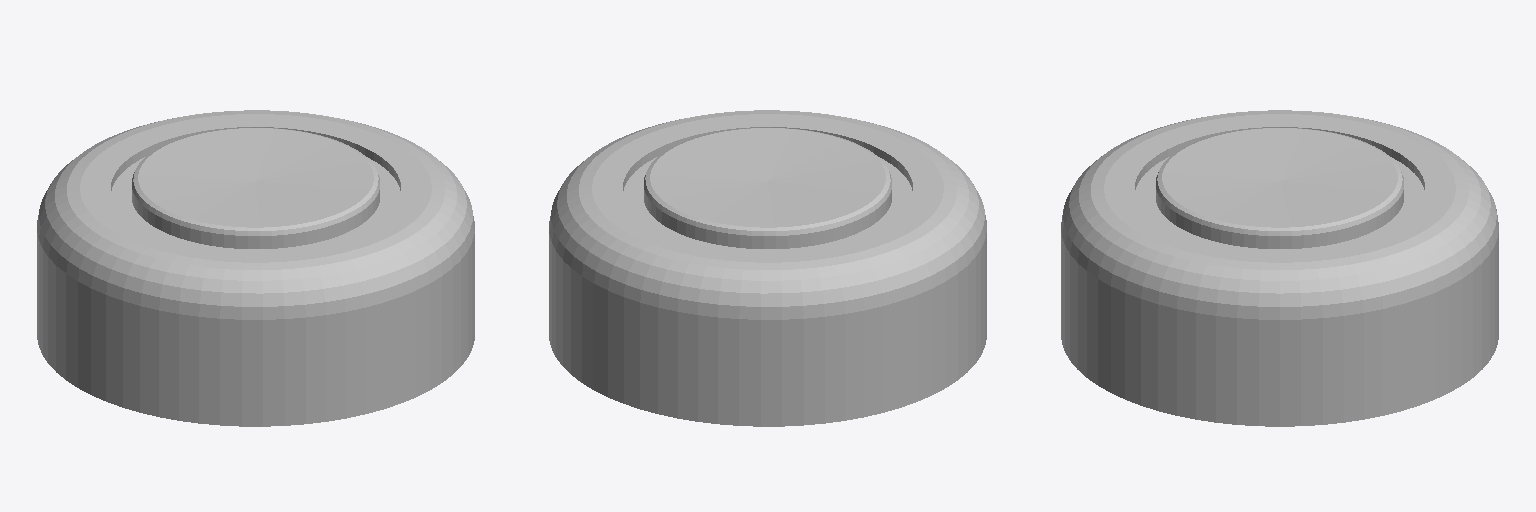
File: taps.obj
3 views of the same model, side by side, from view 1: azimuth 30°, elevation 25°; view 2: azimuth 150°, elevation 25°; view 3: azimuth 270°, elevation 25° (orthographic).
Parts seen in each view (by area): view 1: TAP_BODY, TOP; view 2: TAP_BODY, TOP; view 3: TAP_BODY, TOP.
Boxes of the visible parts, x1=… form: TAP_BODY: x1=37, y1=110, x2=474, y2=426; TOP: x1=132, y1=128, x2=379, y2=248; TAP_BODY: x1=549, y1=110, x2=986, y2=426; TOP: x1=644, y1=128, x2=891, y2=248; TAP_BODY: x1=1061, y1=110, x2=1498, y2=426; TOP: x1=1156, y1=128, x2=1403, y2=248.
Bounding box in the file's own units: 0.36 × 0.1417 × 0.36.